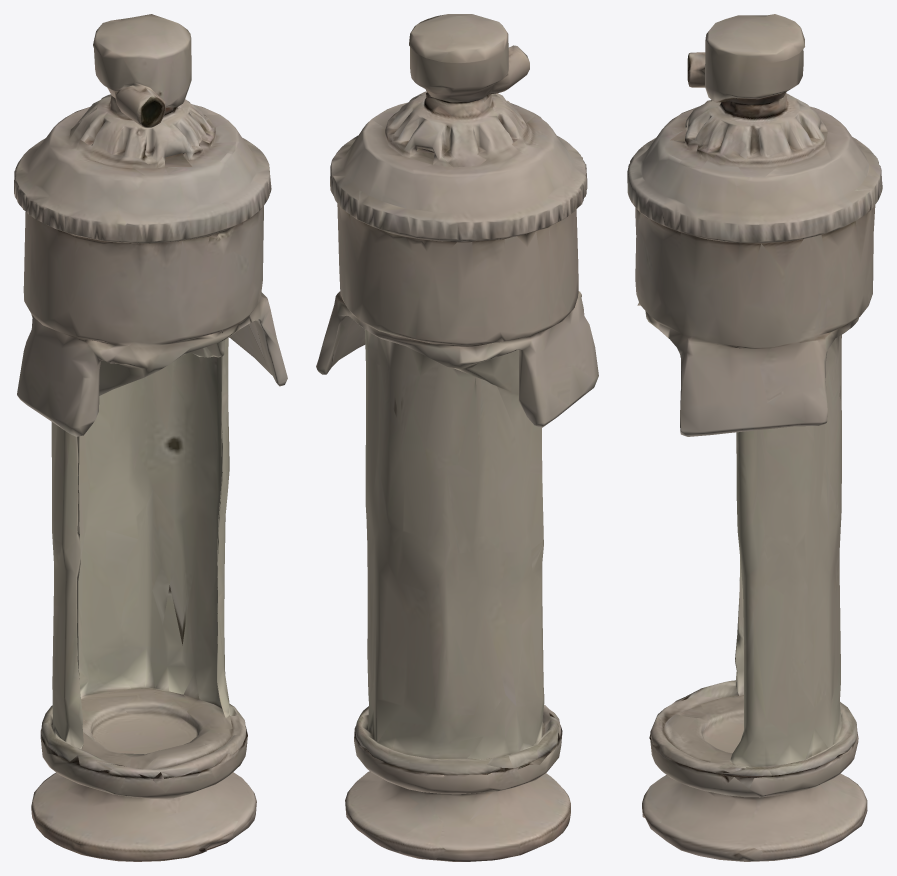
The model's file is fuse.glb.
3 renders of one model, left to right at view 1: azimuth 30°, elevation 25°; view 2: azimuth 150°, elevation 25°; view 3: azimuth 270°, elevation 25°, orthographic.
Parts seen in each view (by area): view 1: Mesh; view 2: Mesh; view 3: Mesh.
Boxes of the visible parts, x1,y1,x2,y2 form: Mesh: (14,14,287,861); Mesh: (316,14,598,861); Mesh: (627,14,882,861).
Size of the model in its own units: 0.2935 by 0.9804 by 0.2867.
1 material, 1 textured.
